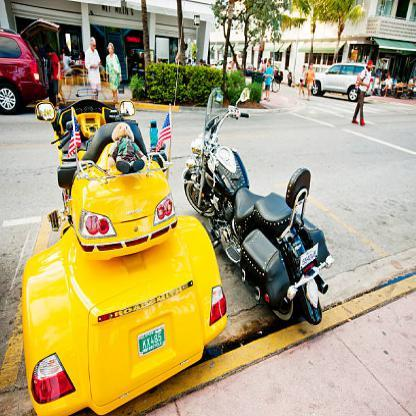Motorcycle: (183, 84, 342, 336)
